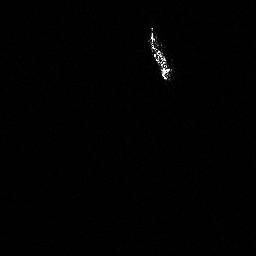ship: (145, 24, 179, 85)
